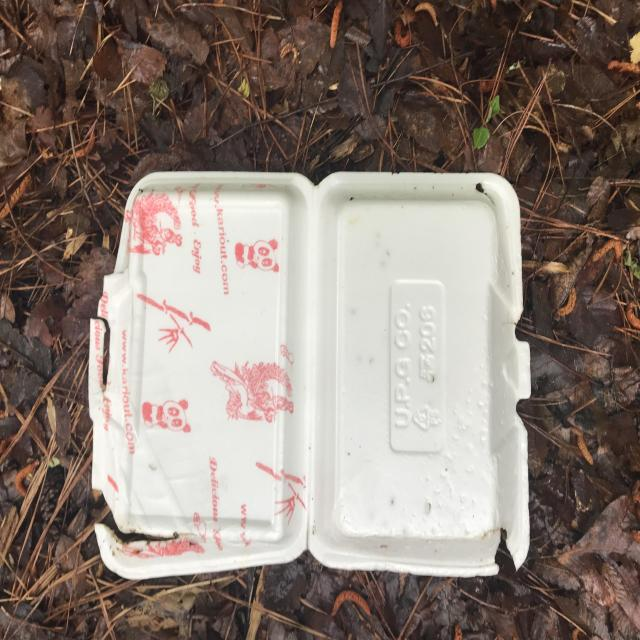litter: (91, 171, 528, 575)
